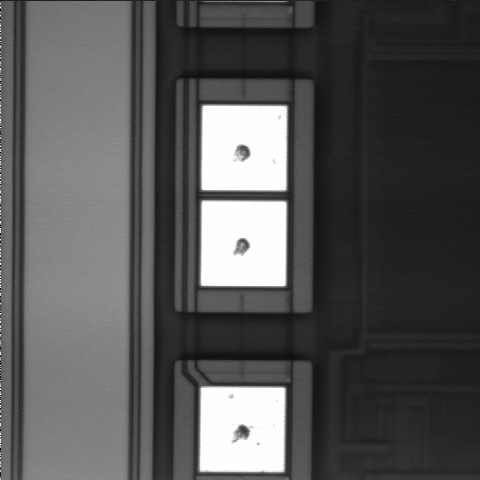pad: (201, 201, 286, 286), (200, 387, 285, 472), (202, 106, 287, 190)
